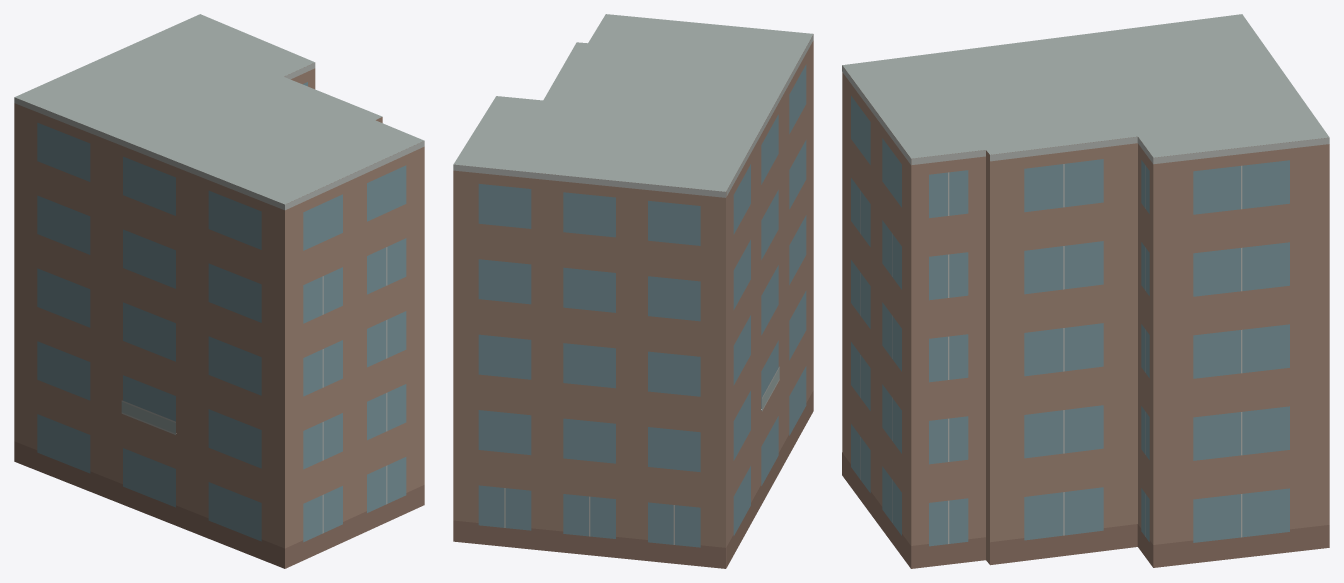
File: survey-upis-32857895.glb
3 renders of one model, left to right at view 1: azimuth 30°, elevation 25°; view 2: azimuth 150°, elevation 25°; view 3: azimuth 270°, elevation 25°, orthographic. The views are drawn at different scales.
Visible parts, largest first — view 1: survey-upis-32857895.tmp; view 2: survey-upis-32857895.tmp; view 3: survey-upis-32857895.tmp.
Boxes of the visible parts, box(x1,y1,x2,y2) form: survey-upis-32857895.tmp: box(14, 14, 424, 568); survey-upis-32857895.tmp: box(453, 14, 813, 568); survey-upis-32857895.tmp: box(842, 14, 1329, 568).
Size of the model in its own units: 11.5 by 15.2 by 16.38.
